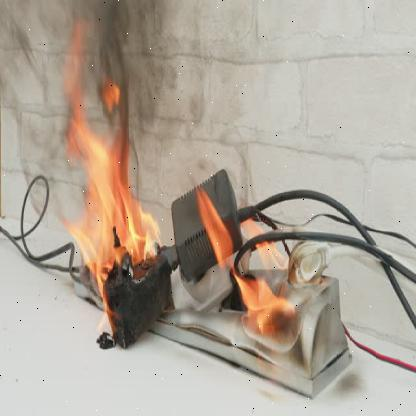fire: (55, 56, 165, 322), (195, 204, 297, 340)
smoke: (3, 0, 219, 220)
